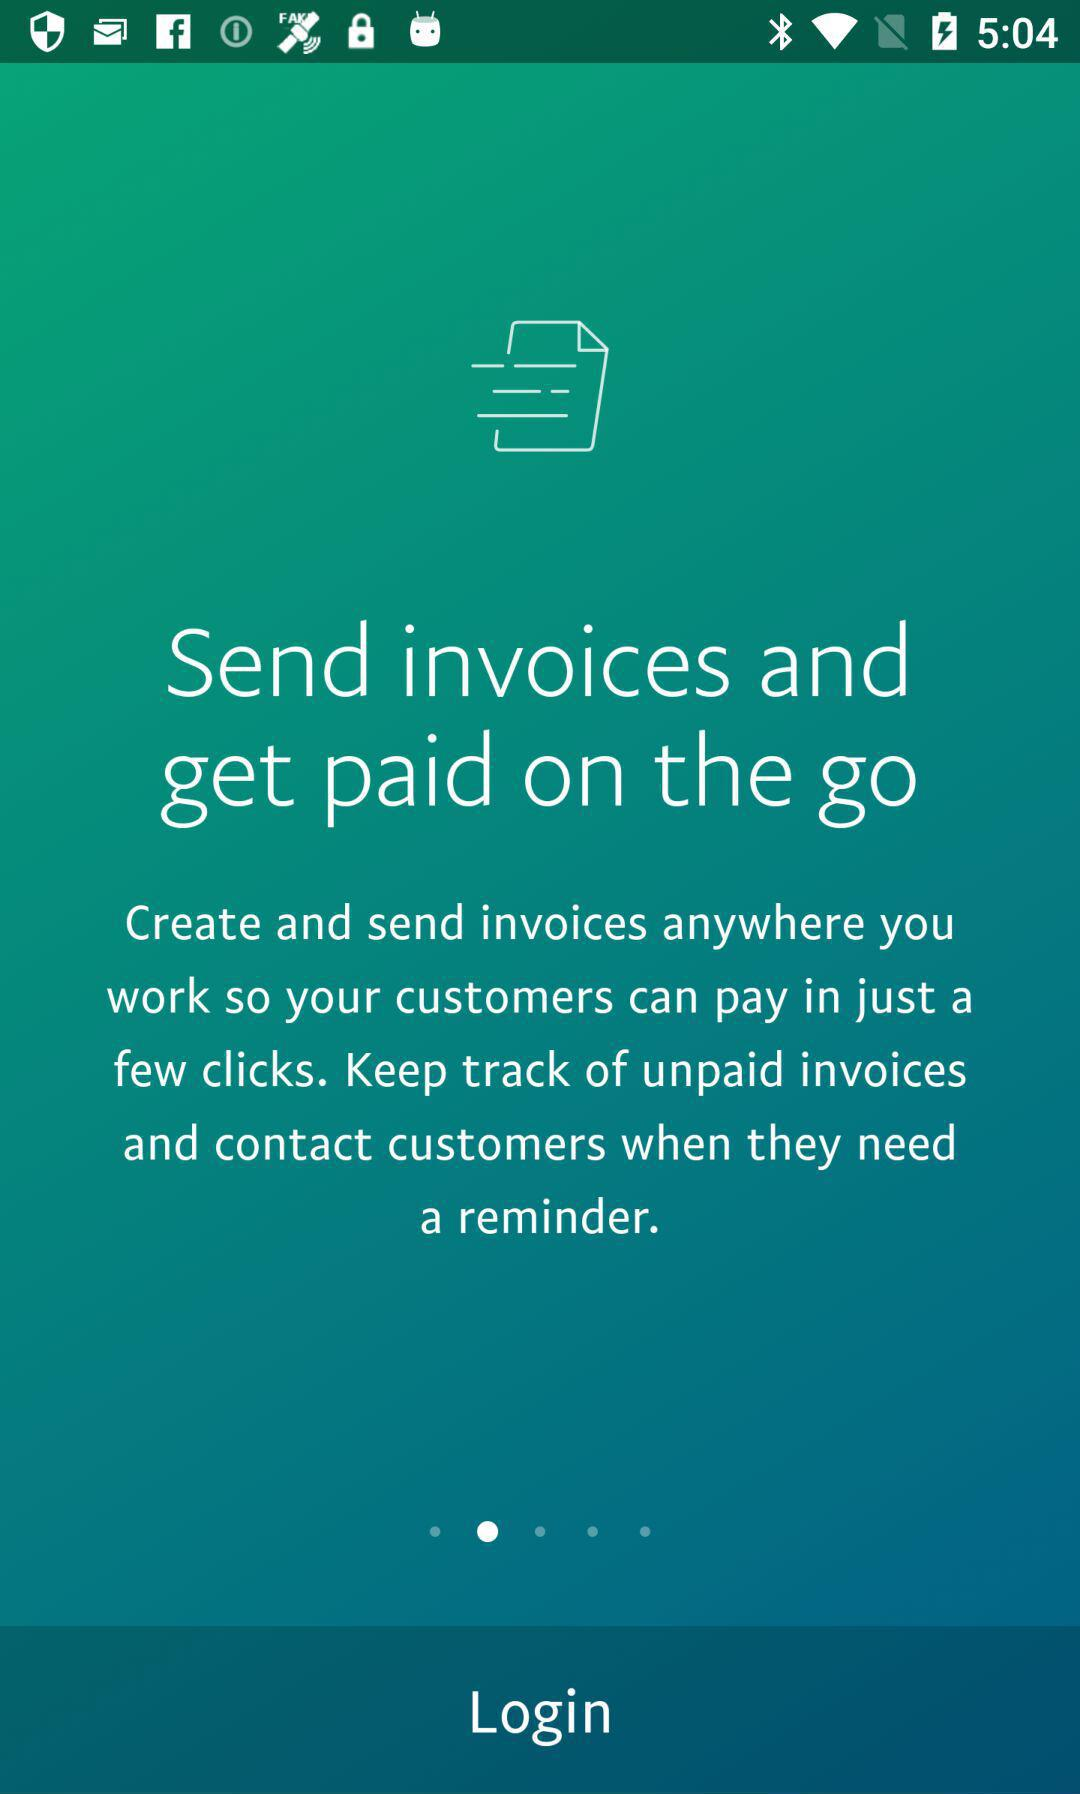Image: (469, 320, 612, 454)
PageIndicator: (428, 1520, 653, 1544)
Text: (108, 903, 971, 1237), (161, 619, 916, 829)
TextButton: (1, 1627, 1080, 1794)
UpperTaskBar: (1, 1, 1080, 64)
